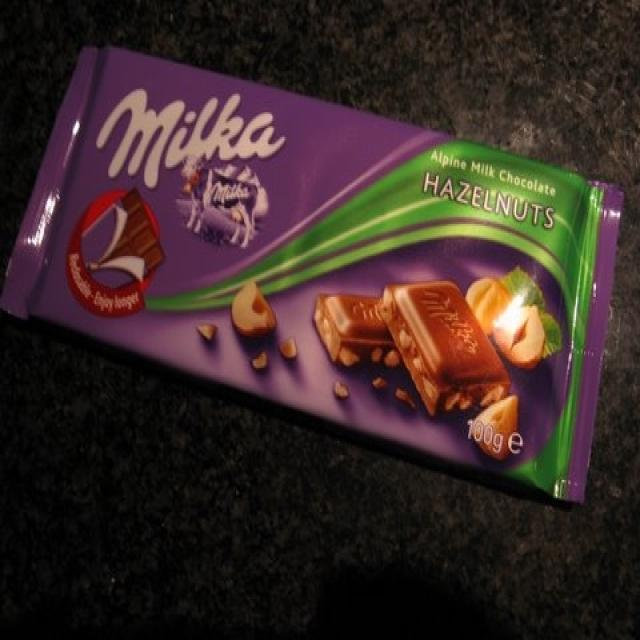milka: (94, 88, 285, 252)
